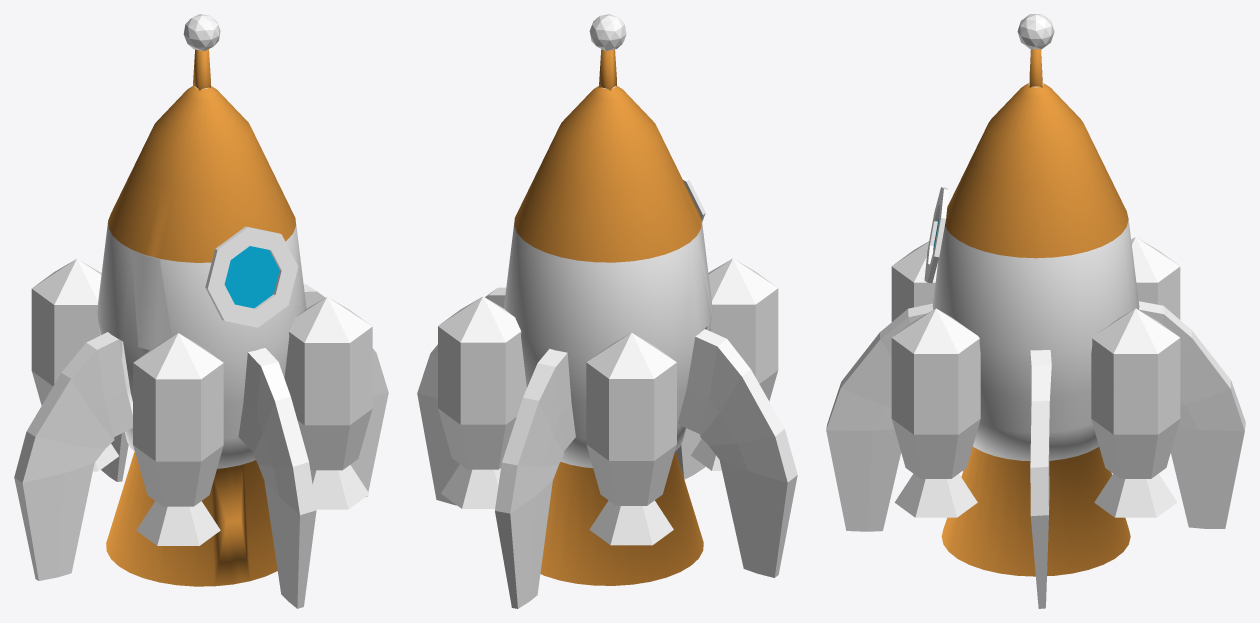
Rendered from pixel_art_rocket.glb.
3 views of the same model, side by side, from view 1: azimuth 30°, elevation 25°; view 2: azimuth 150°, elevation 25°; view 3: azimuth 270°, elevation 25° (orthographic).
Visible parts, largest first — view 1: Cylinder, Cylinder.005, Cylinder.001, Cylinder.002, Cylinder.007, Cylinder.003, Cylinder.009, Cylinder.006, Cylinder.011, Cylinder.008; view 2: Cylinder, Cylinder.003, Cylinder.005, Cylinder.004, Cylinder.008, Cylinder.001, Cylinder.006, Cylinder.011, Cylinder.007; view 3: Cylinder, Cylinder.002, Cylinder.004, Cylinder.008, Cylinder.007, Cylinder.006, Cylinder.003, Cylinder.001, Cylinder.009, Cylinder.011.
Boxes of the visible parts, x1,y1,x2,y2 form: Cylinder: [97, 49, 306, 586]; Cylinder.005: [14, 332, 132, 580]; Cylinder.001: [133, 333, 223, 545]; Cylinder.002: [284, 297, 372, 509]; Cylinder.007: [238, 348, 316, 608]; Cylinder.003: [31, 259, 122, 471]; Cylinder.009: [205, 226, 298, 327]; Cylinder.006: [303, 284, 388, 496]; Cylinder.011: [183, 14, 220, 50]; Cylinder.008: [101, 432, 128, 481]; Cylinder: [504, 49, 712, 585]; Cylinder.003: [586, 332, 676, 545]; Cylinder.005: [677, 329, 797, 577]; Cylinder.004: [438, 296, 526, 508]; Cylinder.008: [495, 348, 575, 608]; Cylinder.001: [691, 258, 778, 470]; Cylinder.006: [417, 287, 506, 505]; Cylinder.011: [589, 14, 626, 50]; Cylinder.007: [675, 428, 705, 479]; Cylinder: [932, 49, 1139, 576]; Cylinder.002: [891, 308, 980, 517]; Cylinder.004: [1091, 308, 1180, 517]; Cylinder.008: [1138, 301, 1245, 528]; Cylinder.007: [826, 303, 933, 531]; Cylinder.006: [1030, 350, 1051, 608]; Cylinder.003: [1131, 237, 1180, 319]; Cylinder.001: [891, 241, 937, 321]; Cylinder.009: [924, 187, 948, 283]; Cylinder.011: [1017, 14, 1054, 49].
Size of the model in its own units: 1.64 by 2.25 by 1.64.
